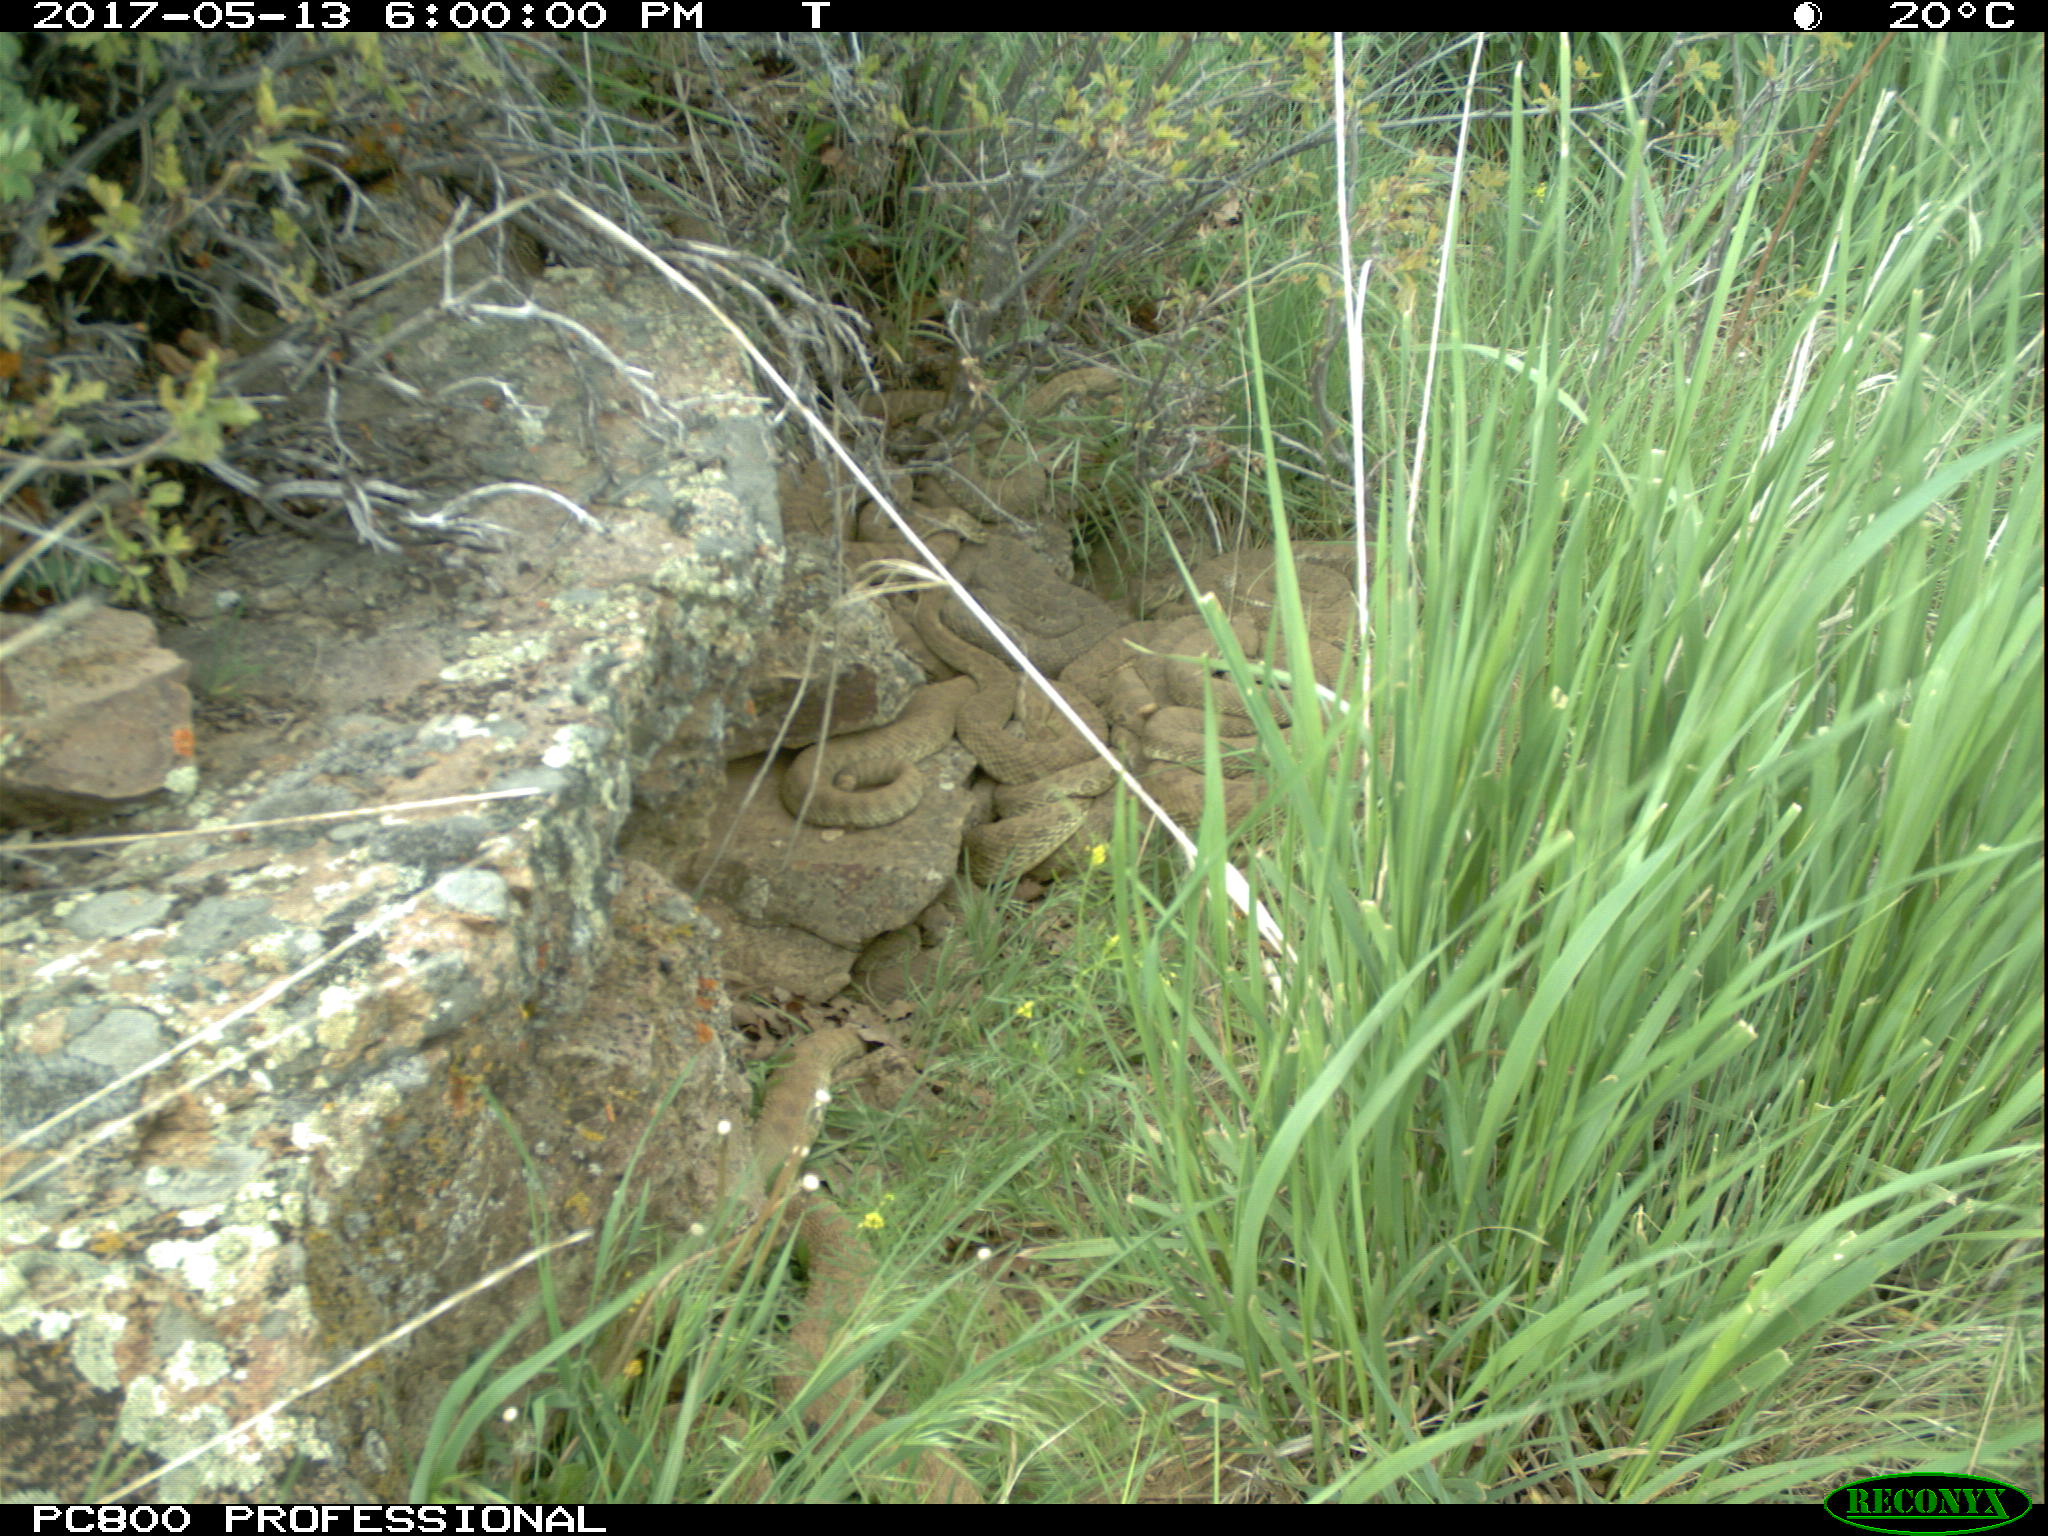snake: (908, 531, 1106, 770), (768, 1197, 885, 1478), (1100, 623, 1326, 739), (753, 1018, 856, 1233), (1176, 528, 1384, 628), (1130, 703, 1288, 831), (964, 770, 1118, 883), (951, 553, 1101, 657), (787, 721, 921, 826), (784, 453, 922, 552), (930, 431, 1055, 523), (1013, 363, 1134, 416), (851, 387, 964, 428)
